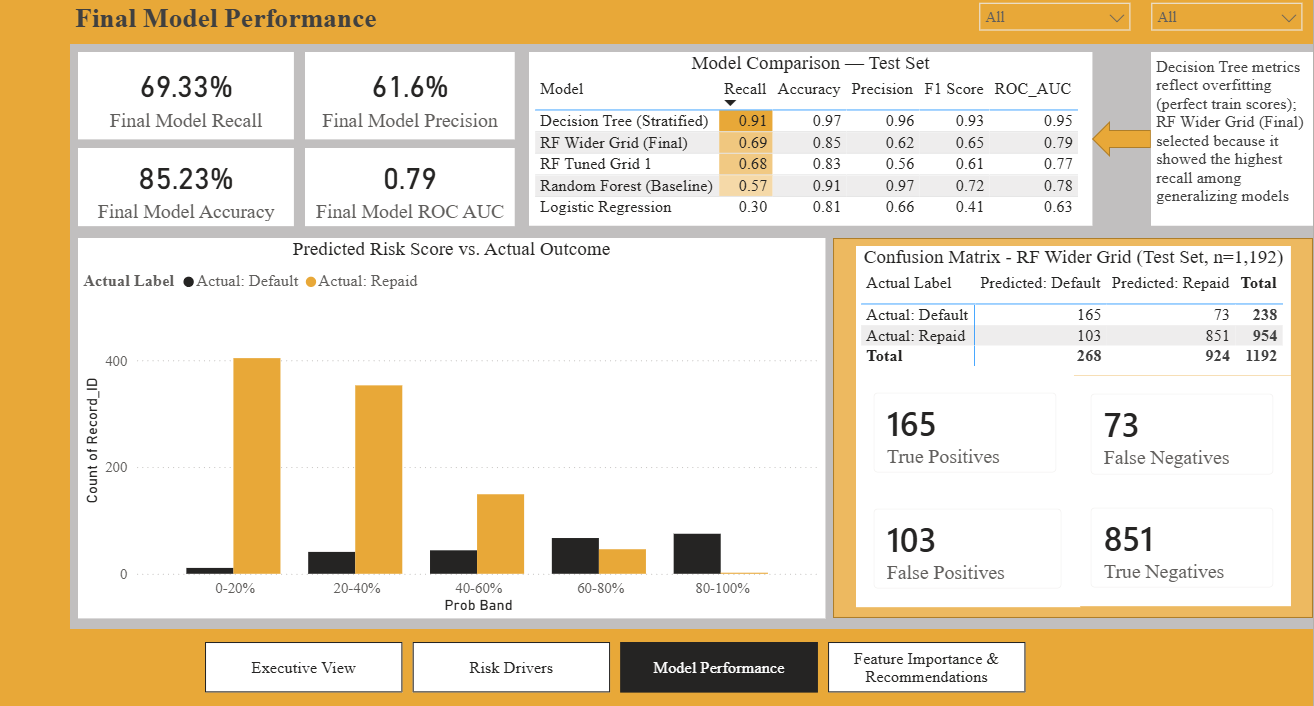

The dashboard page shown, as its layout file describes it:
{"tool":"powerbi","page":{"name":"Model Performance","canvas":[1280,720],"ordinal":2},"visuals":[{"type":"shape","box":[813.1,264.6,466.9,369.6],"z":0},{"type":"shape","box":[0,1,1280,74.9],"z":1000},{"type":"cardVisual","fields":{"Data":["Measures_.False Negatives"]},"box":[1047,398.5,212,113.8],"z":1000,"group":"g1"},{"type":"shape","box":[0,75.9,71,643.9],"z":2000},{"type":"shape","box":[0,644.9,1280,74.9],"z":3000},{"type":"textbox","box":[71,30.2,318.1,45.7],"z":4000},{"type":"card","fields":{"Values":["Measures_.Final Model Recall"]},"box":[78.8,83.6,210.1,84.6],"z":5000},{"type":"card","fields":{"Values":["Measures_.Final Model Precision"]},"box":[299.6,83.6,204.3,84.6],"z":6000},{"type":"card","fields":{"Values":["Measures_.Final Model Accuracy"]},"box":[78.8,177,210.1,75.9],"z":7000},{"type":"card","fields":{"Values":["Measures_.Final Model ROC AUC"]},"box":[299.6,177,204.3,75.9],"z":8000},{"type":"tableEx","title":"Model Comparison — Test Set","fields":{"Values":["model_comparison.Model","model_comparison.Recall","model_comparison.Accuracy","model_comparison.Precision","model_comparison.F1 Score","model_comparison.ROC_AUC"]},"box":[517.4,83.6,547.6,169.2],"z":9000},{"type":"textbox","box":[1122.4,83.6,157.6,169.2],"z":10000},{"type":"shape","box":[1065,150.8,57.4,35],"z":11000},{"type":"slicer","fields":{"Values":["hmeq_clean.REASON"]},"box":[1112.7,8.8,167.3,57.4],"z":12000},{"type":"clusteredColumnChart","title":"Predicted Risk Score vs. Actual Outcome","fields":{"Category":["predictions.Prob Band"],"Y":["CountNonNull(predictions.Record_ID)"],"Series":["predictions.Actual Label"]},"box":[78.8,264.6,726.6,369.6],"z":13000},{"type":"pivotTable","title":"Confusion Matrix - RF Wider Grid (Test Set, n=1,192)","fields":{"Rows":["predictions.Actual Label"],"Columns":["predictions.Predicted Label"],"Values":["CountNonNull(predictions.Record_ID)"]},"box":[835.9,272.1,423.1,126.4],"z":13000,"group":"g1"},{"type":"group","id":"g1","title":"Group 1","box":[835.7,272.1,423.3,350.8],"z":14000},{"type":"pageNavigator","box":[202.3,657.5,800.5,49.6],"z":15000},{"type":"slicer","fields":{"Values":["hmeq_clean.DTI Band"]},"box":[945.4,8.8,167.3,57.4],"z":16000},{"type":"cardVisual","fields":{"Data":["Measures_.True Positives"]},"box":[835.9,397.3,212,112.8],"z":16000,"group":"g1"},{"type":"cardVisual","fields":{"Data":["Measures_.True Negatives"]},"box":[1047,509.4,212,112.8],"z":17000,"group":"g1"},{"type":"cardVisual","fields":{"Data":["Measures_.False Positives"]},"box":[835.7,510.1,217.9,112.8],"z":18000,"group":"g1"}]}

Visuals, with their boxes on the page's 1280x720 design canvas (x1, y1, x2, y2). These are canvas units, not pixel positions in the 1314x706 screenshot, which may show the page scaled, cropped or inside an application window:
shape: 813,265,1280,634
shape: 0,1,1280,76
cardVisual - Measures_.False Negatives: 1047,398,1259,512
shape: 0,76,71,720
shape: 0,645,1280,720
textbox: 71,30,389,76
card - Measures_.Final Model Recall: 79,84,289,168
card - Measures_.Final Model Precision: 300,84,504,168
card - Measures_.Final Model Accuracy: 79,177,289,253
card - Measures_.Final Model ROC AUC: 300,177,504,253
"Model Comparison — Test Set" tableEx: 517,84,1065,253
textbox: 1122,84,1280,253
shape: 1065,151,1122,186
slicer - hmeq_clean.REASON: 1113,9,1280,66
"Predicted Risk Score vs. Actual Outcome" clusteredColumnChart: 79,265,805,634
"Confusion Matrix - RF Wider Grid (Test Set, n=1,192)" pivotTable: 836,272,1259,398
"Group 1" group: 836,272,1259,623
pageNavigator: 202,658,1003,707
slicer - hmeq_clean.DTI Band: 945,9,1113,66
cardVisual - Measures_.True Positives: 836,397,1048,510
cardVisual - Measures_.True Negatives: 1047,509,1259,622
cardVisual - Measures_.False Positives: 836,510,1054,623
